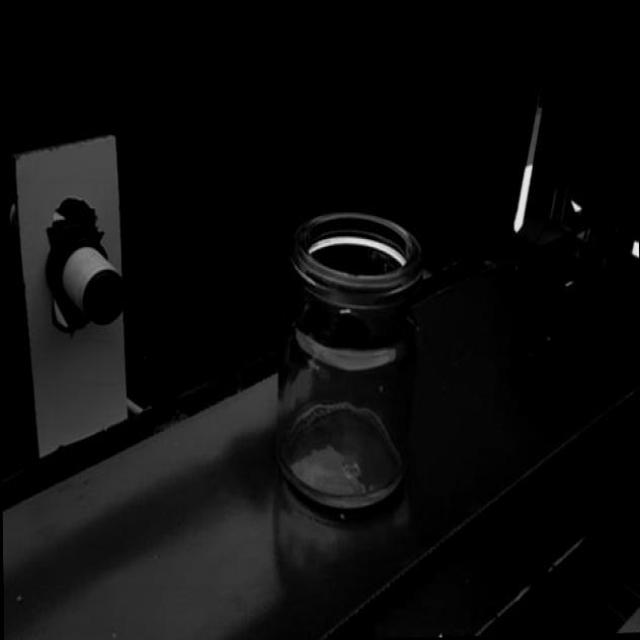defect: (339, 306, 353, 316)
glass: (275, 208, 428, 518)
